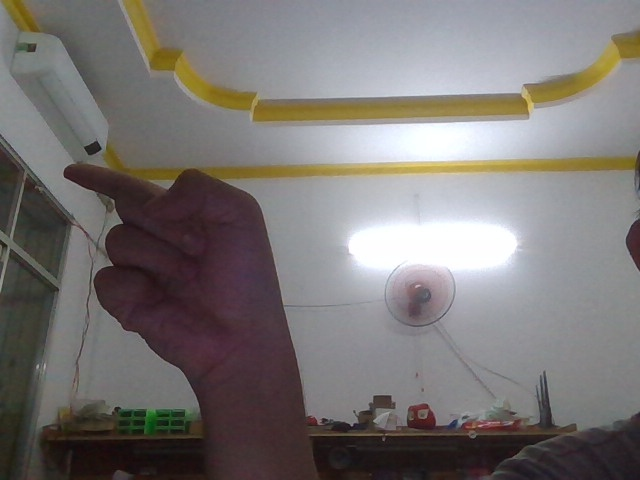turn_right: (51, 147, 325, 390)
